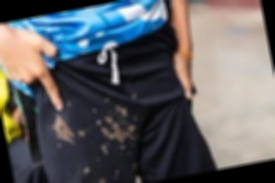earth: (95, 105, 136, 152), (50, 114, 79, 148)
